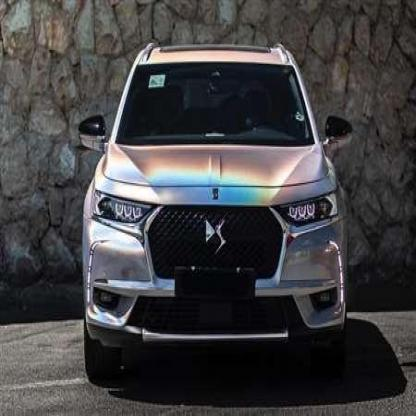Car: (77, 45, 352, 374)
